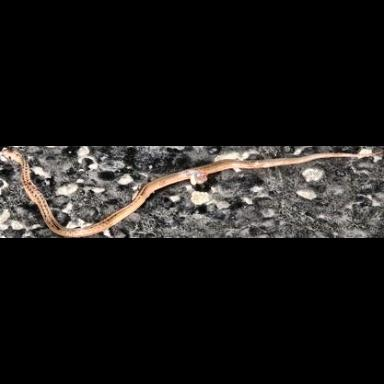snake: (0, 149, 359, 239)
